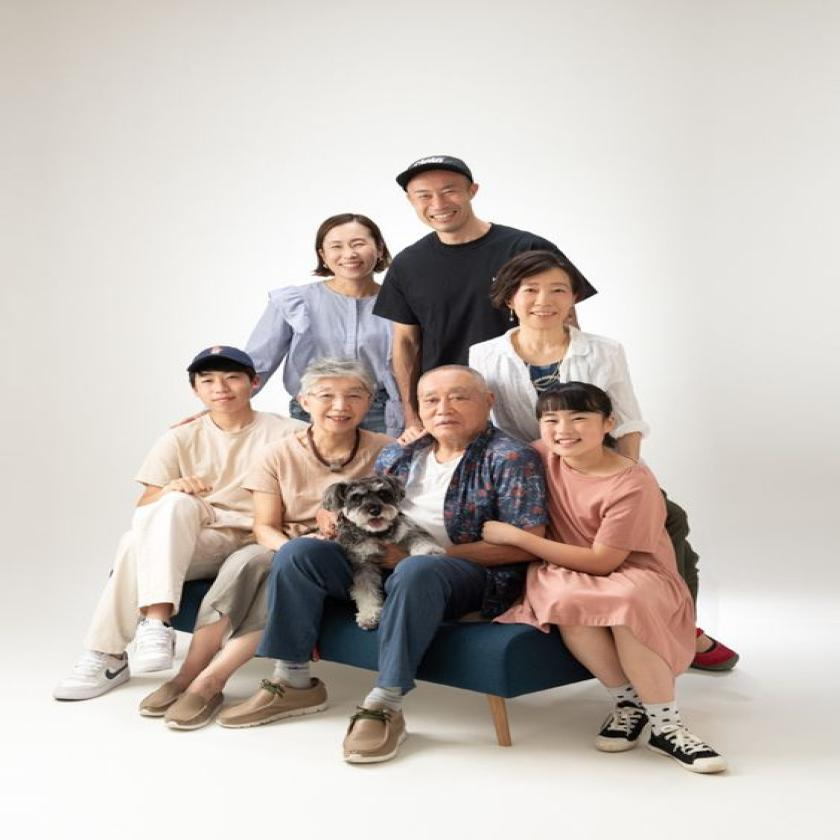Sin_casco: (497, 250, 584, 348), (412, 362, 497, 458), (538, 378, 619, 472), (300, 354, 378, 450), (308, 211, 390, 299)
